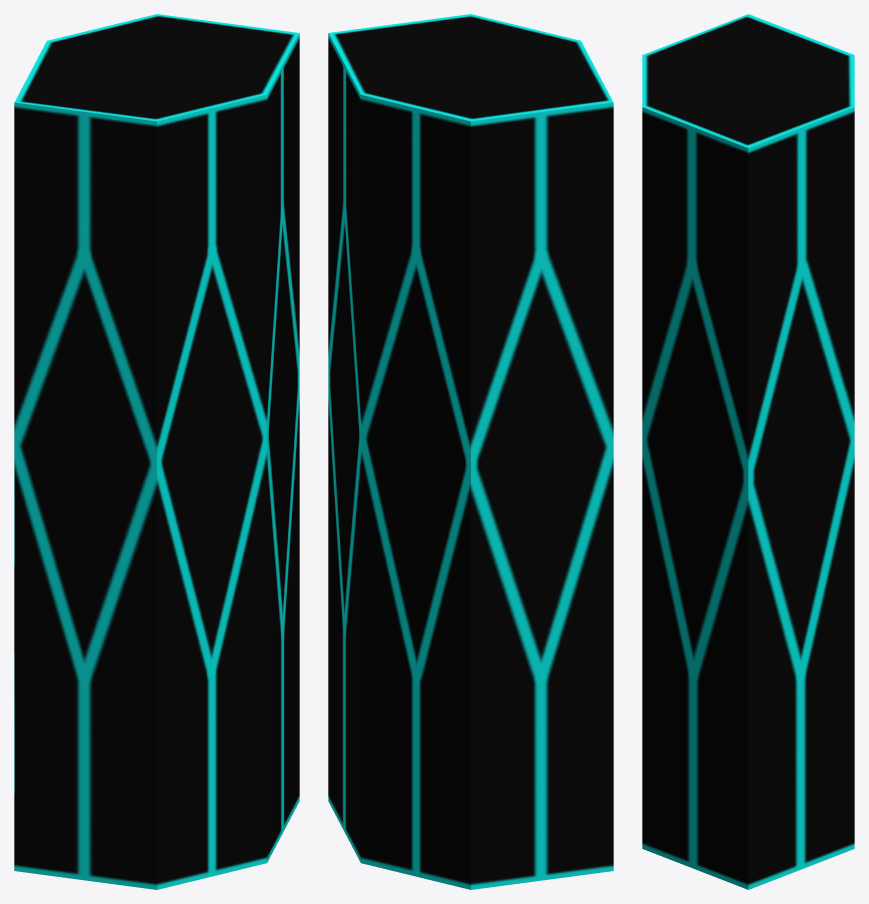
Rendered from SM_City03.fbx.
3 views of the same model, side by side, from view 1: azimuth 30°, elevation 25°; view 2: azimuth 150°, elevation 25°; view 3: azimuth 270°, elevation 25° (orthographic). The views are drawn at different scales.
Visible parts, largest first — view 1: SM_City03; view 2: SM_City03; view 3: SM_City03.
Part boxes in pixels (x1,y1,x2,y2): SM_City03: (14,14,299,889); SM_City03: (328,14,613,889); SM_City03: (642,14,854,889).
Size of the model in its own units: 388 by 1000 by 260.
Materials: 1 (1 with a texture image).
